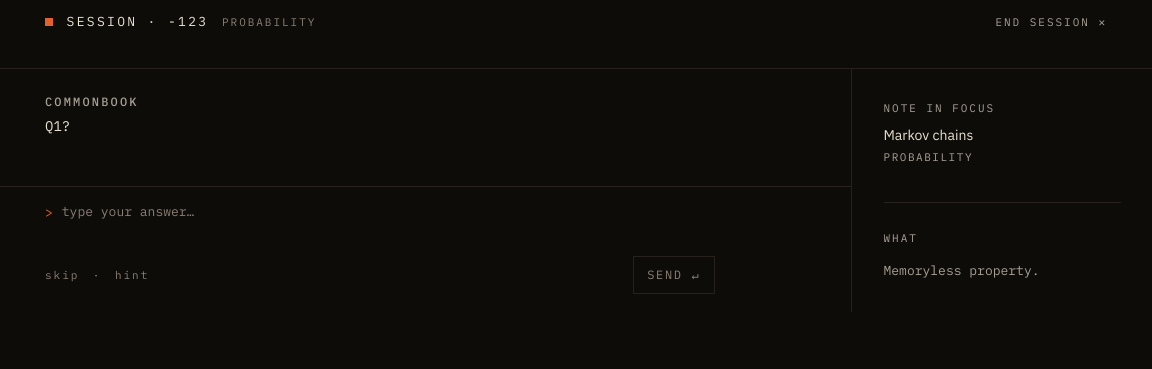
Session — SESSION_COMPLETE detection › strips RATING:X from the displayed message content
The width and height of the screenshot is (1152, 369).
Type "answer" into the text box named "message input" at [433, 222], box 62,201 -> 805,243
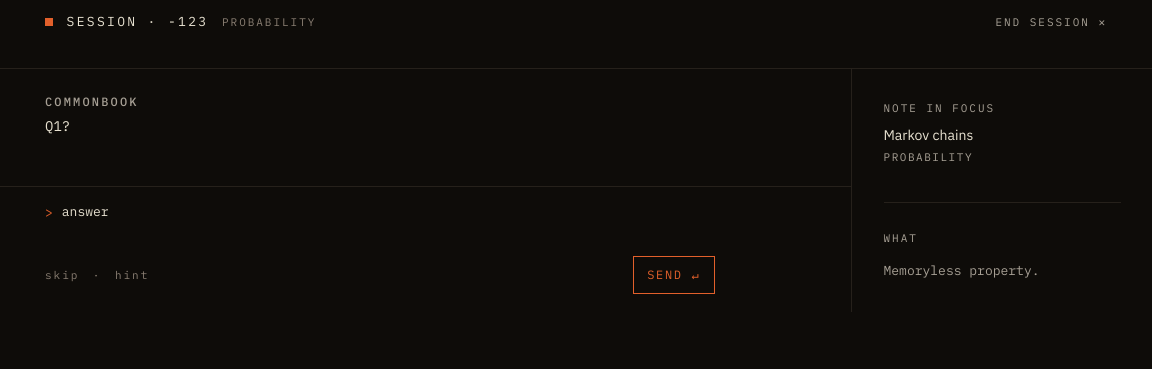
Click the button "send ↵" at [674, 275], box 633,256 -> 715,294
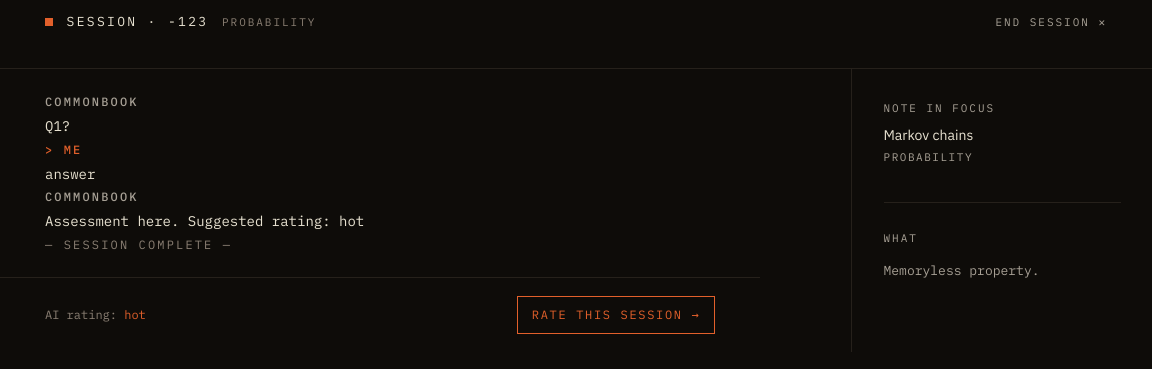
Result: the button with test id "rate-session-btn" is shown at 517,296 -> 715,334
